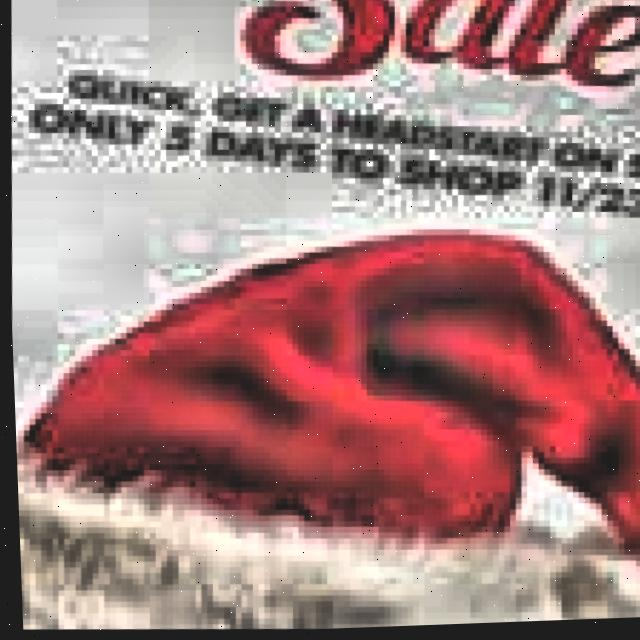paper: (9, 0, 640, 631)
